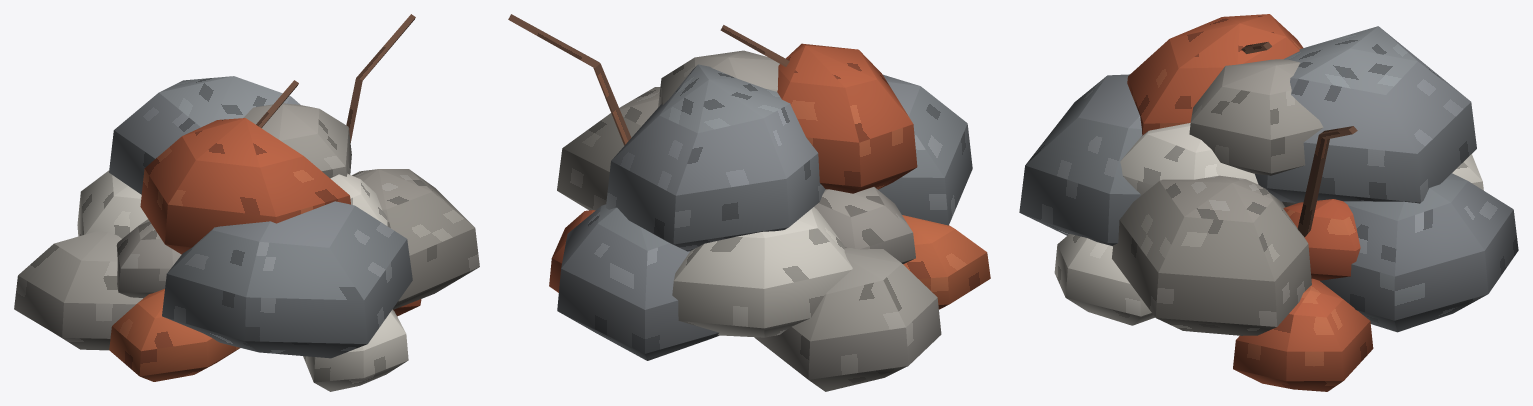
File: f_rubble.glb
3 views of the same model, side by side, from view 1: azimuth 30°, elevation 25°; view 2: azimuth 150°, elevation 25°; view 3: azimuth 270°, elevation 25° (orthographic). The views are drawn at different scales.
Visible parts, largest first — view 1: f_rubble_mesh; view 2: f_rubble_mesh; view 3: f_rubble_mesh.
Part boxes in pixels (x1=…): f_rubble_mesh: x1=14, y1=14, x2=479, y2=391; f_rubble_mesh: x1=508, y1=14, x2=990, y2=391; f_rubble_mesh: x1=1019, y1=14, x2=1518, y2=391.
Size of the model in its own units: 0.8632 by 0.5744 by 0.8771.
Materials: 1 (1 with a texture image).
